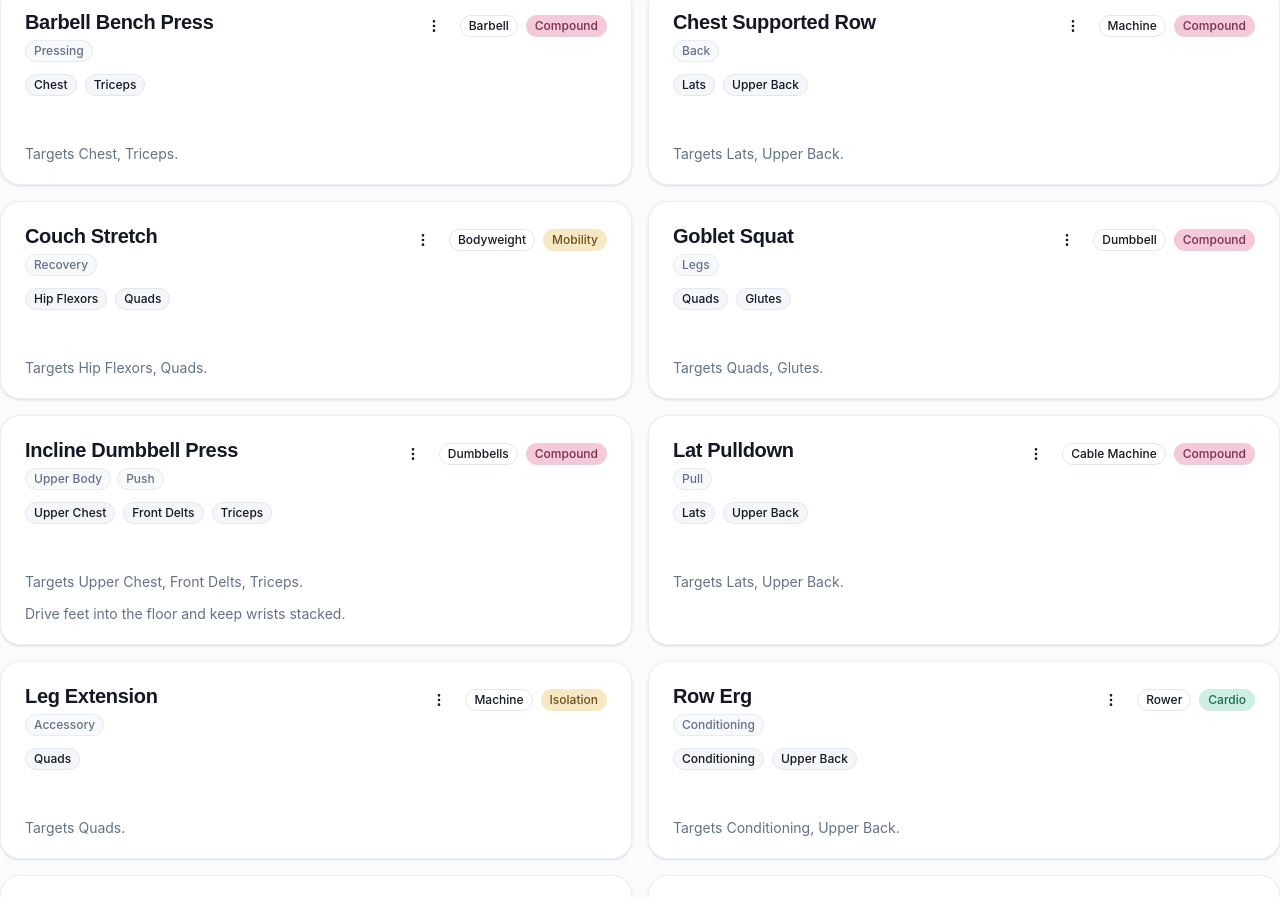
Test: ExerciseLibrary › loads trend data from the exercise history API
(page scrolled)
Click the button "Incline Dumbbell Press" at (132, 450), box top-left (25, 436), bottom-right (238, 464)
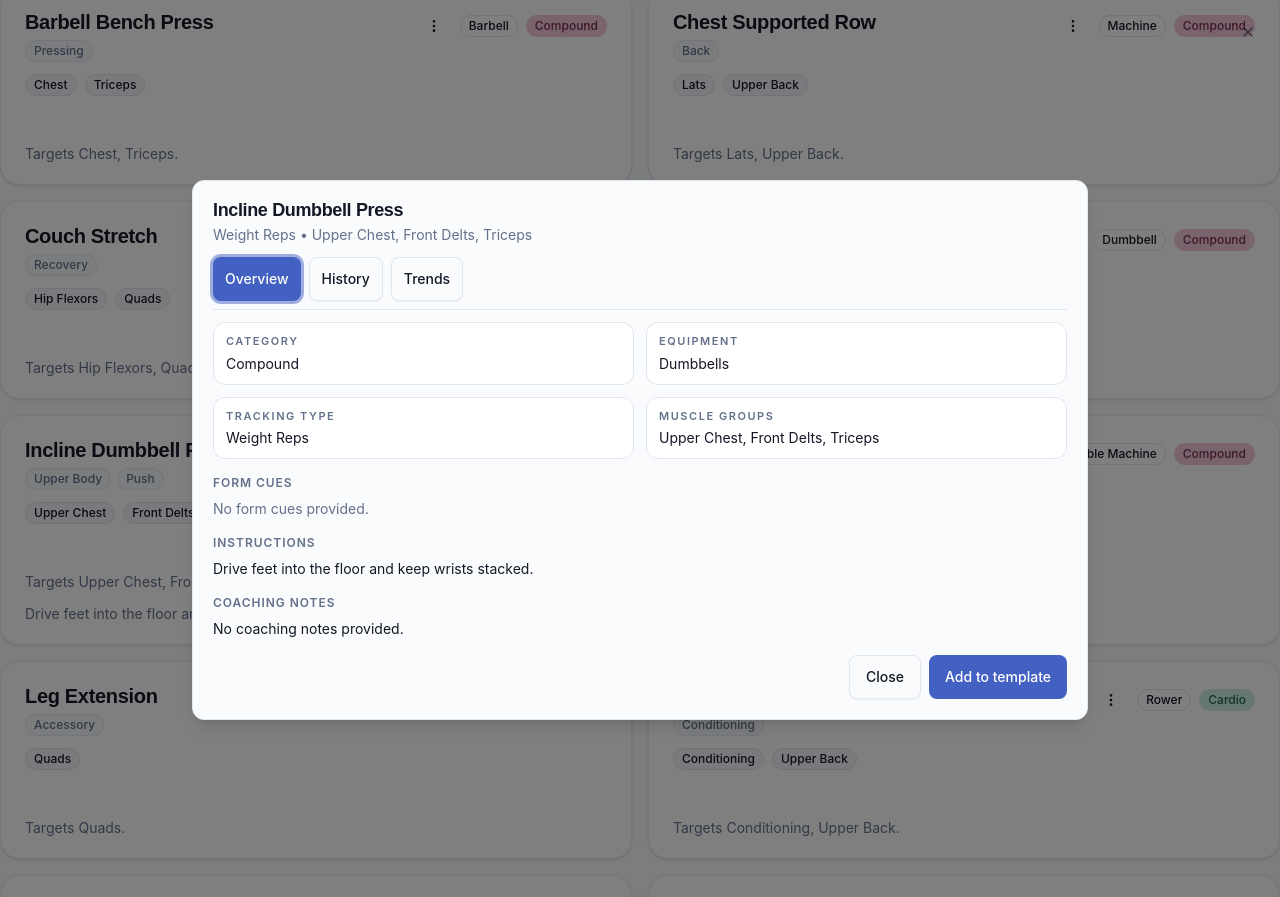
Click the tab "History" at (346, 279), box top-left (308, 257), bottom-right (383, 301)
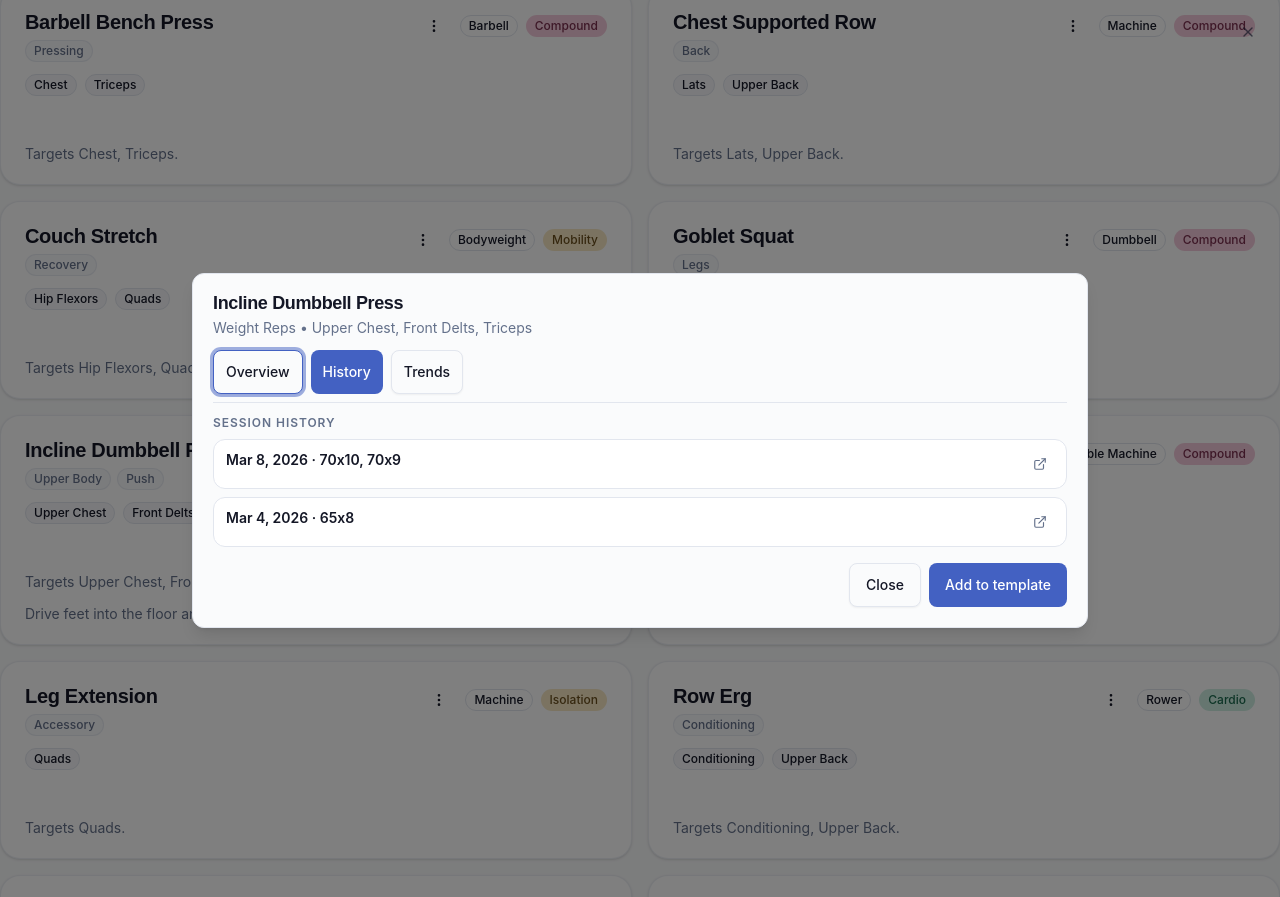
Check: the text "Mar 8, 2026 · 70x10, 70x9" is shown, box top-left (226, 450), bottom-right (401, 470)
